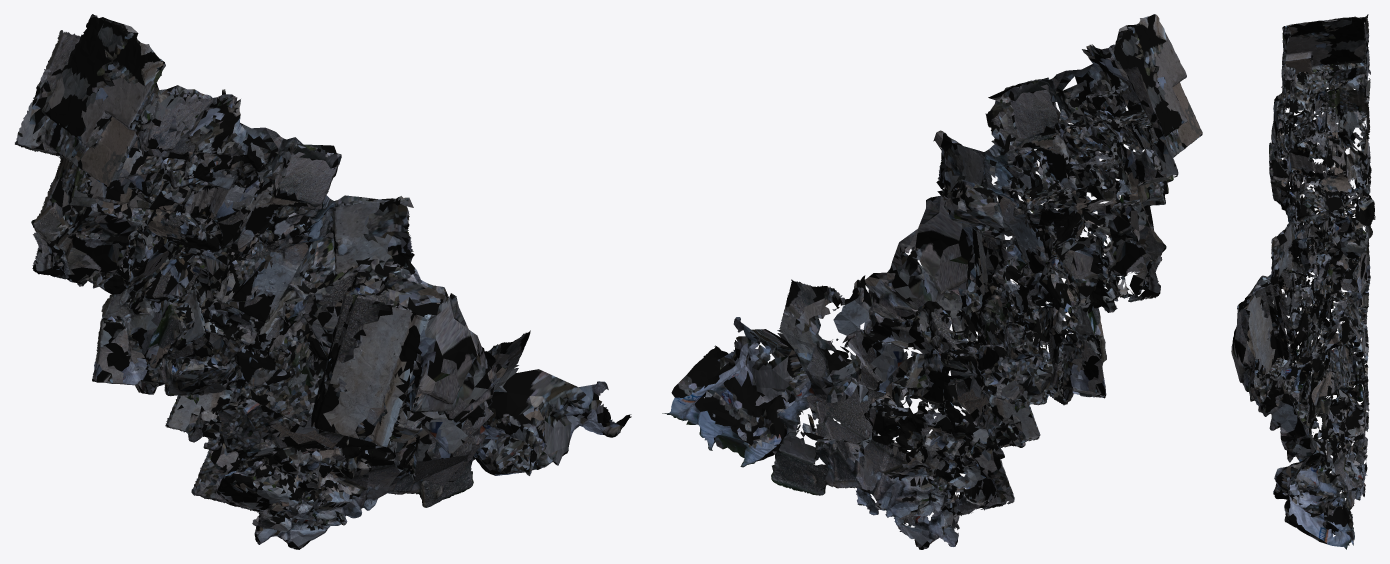
Rendered from rubble.obj.
The picture shows the model from 3 angles, left to right: view 1: azimuth 30°, elevation 25°; view 2: azimuth 150°, elevation 25°; view 3: azimuth 270°, elevation 25°; orthographic projection. The views are drawn at different scales.
Parts seen in each view (by area): view 1: LOD3_TextureAtlas_1004_0; view 2: LOD3_TextureAtlas_1004_0; view 3: LOD3_TextureAtlas_1004_0.
Part boxes in pixels (x1=…): LOD3_TextureAtlas_1004_0: x1=15, y1=14, x2=631, y2=549; LOD3_TextureAtlas_1004_0: x1=662, y1=14, x2=1202, y2=549; LOD3_TextureAtlas_1004_0: x1=1231, y1=14, x2=1375, y2=549.
Bounding box in the file's own units: 3.16 × 3.1 × 0.9836.
Materials: 5 (5 with a texture image).
